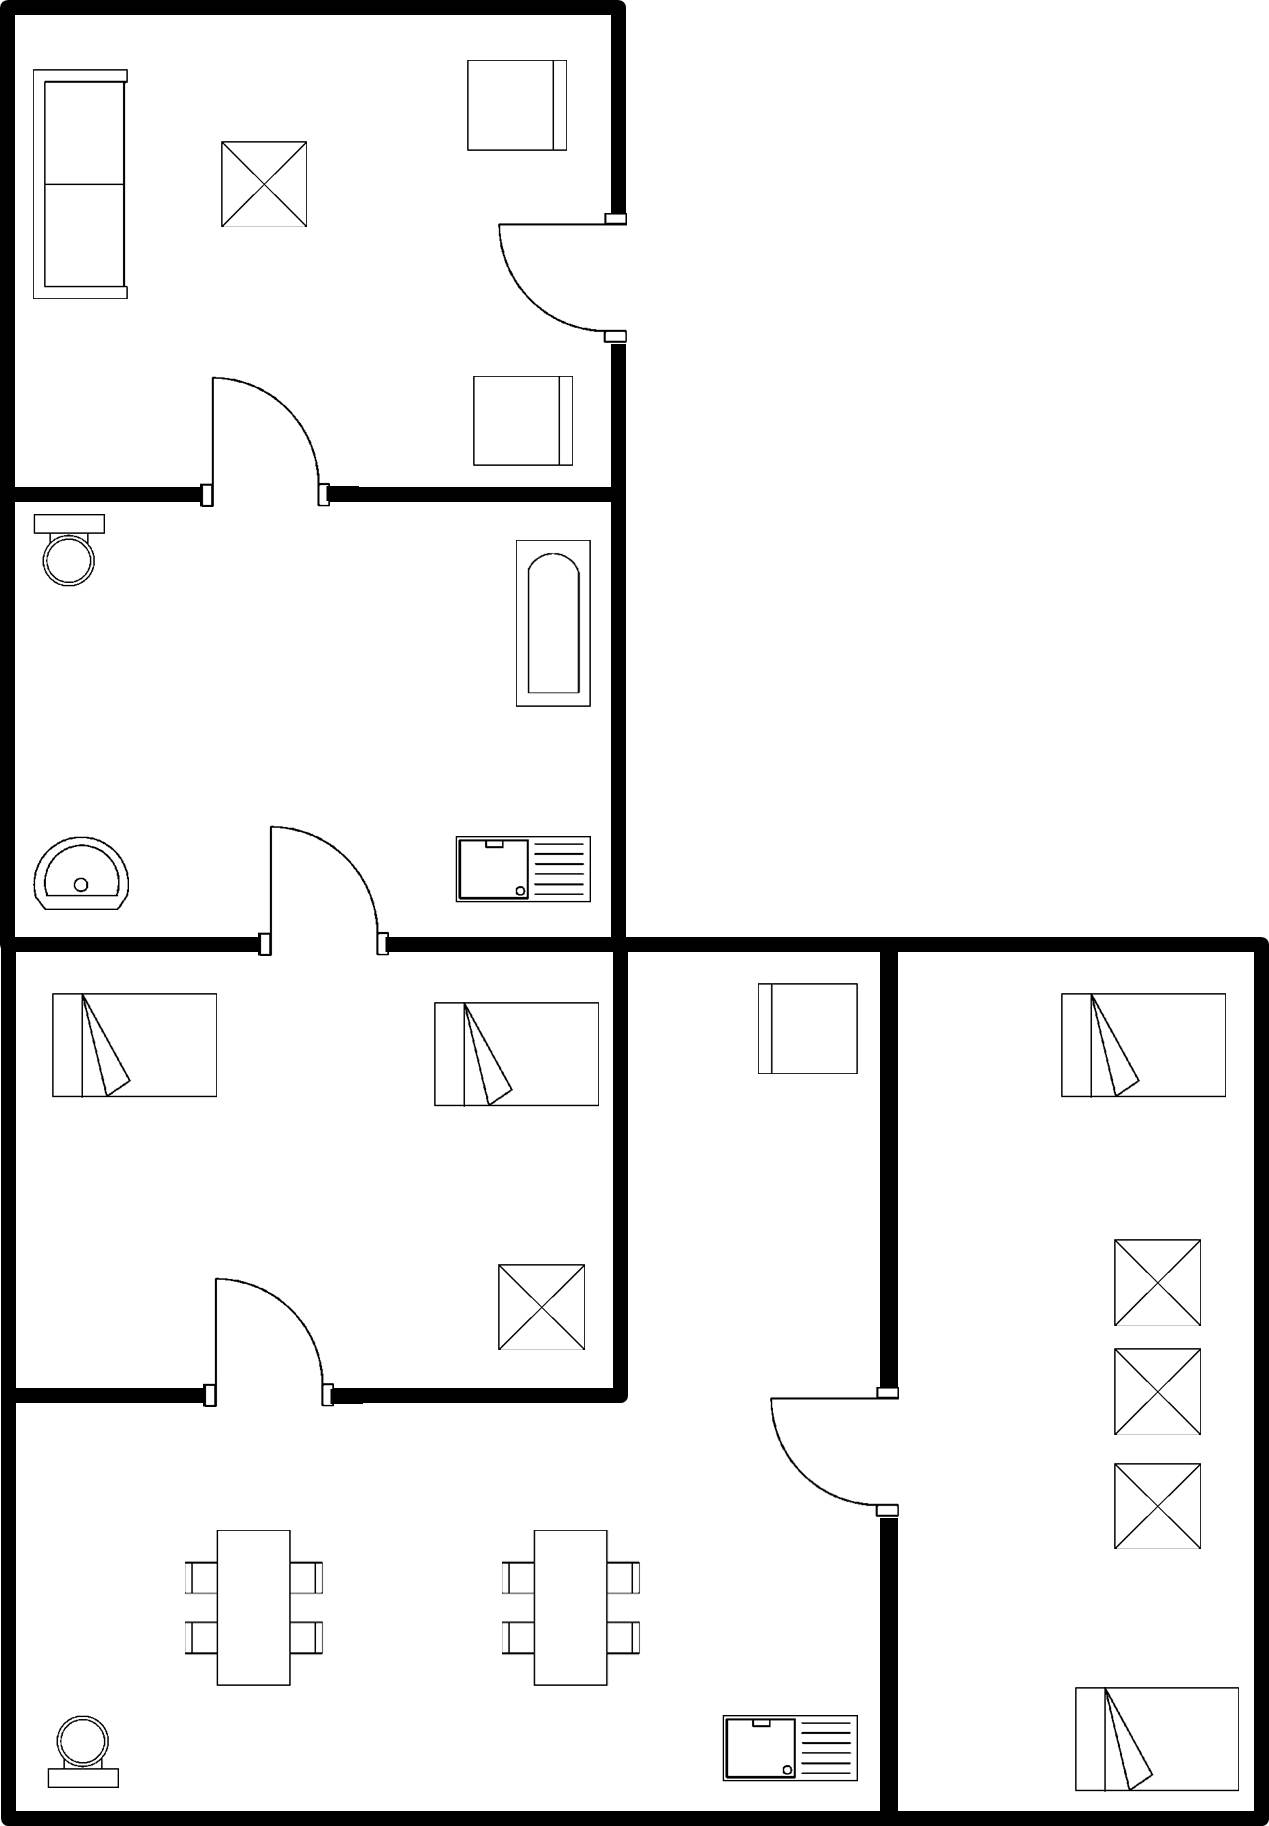bed: (38, 982, 231, 1116), (1056, 1671, 1247, 1802), (417, 991, 606, 1123), (1047, 982, 1236, 1111)
coffee_table: (1101, 1448, 1215, 1562), (206, 127, 318, 241), (1104, 1227, 1213, 1339), (1106, 1341, 1215, 1448), (486, 1252, 595, 1359)
dining_table: (483, 1523, 652, 1702), (172, 1518, 333, 1700)
large_sink: (33, 1703, 131, 1800), (26, 504, 113, 598)
large_sofa: (22, 59, 136, 311)
sink: (711, 1700, 867, 1796), (442, 825, 595, 916)
small_sink: (26, 827, 149, 921)
small_sofa: (458, 48, 581, 168), (463, 362, 590, 477), (747, 970, 867, 1084)
tub: (501, 532, 604, 716)
